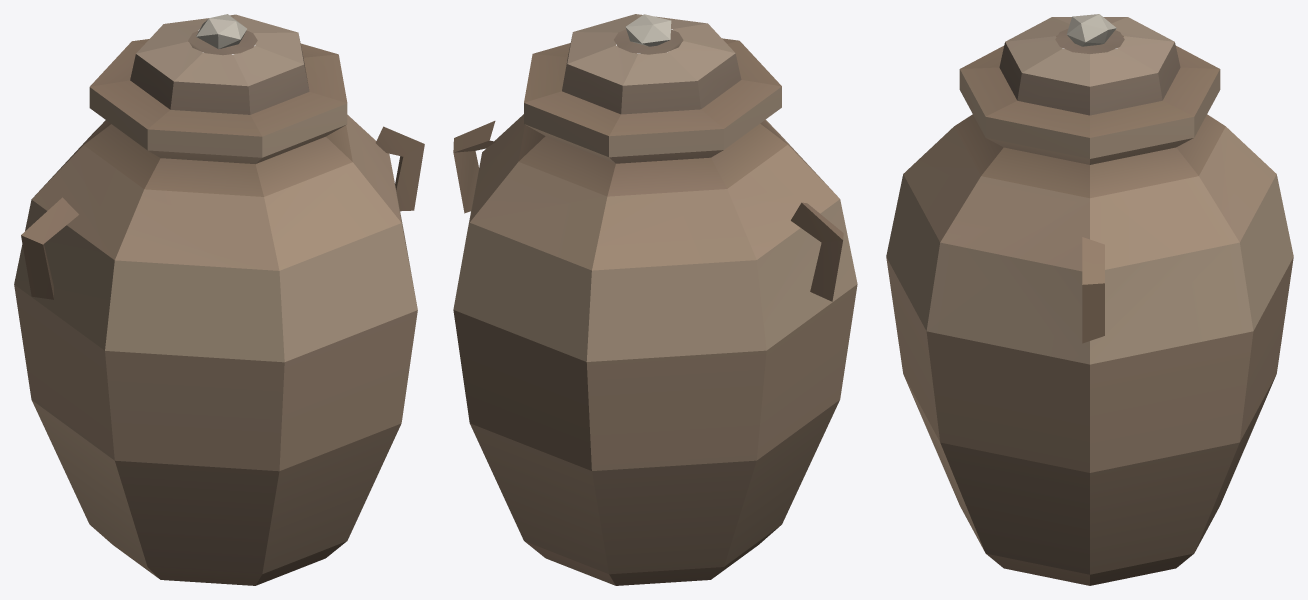
The model's file is jar.lod1.glb.
3 renders of one model, left to right at view 1: azimuth 30°, elevation 25°; view 2: azimuth 150°, elevation 25°; view 3: azimuth 270°, elevation 25°, orthographic.
Size of the model in its own units: 0.7868 by 0.9898 by 0.702.
